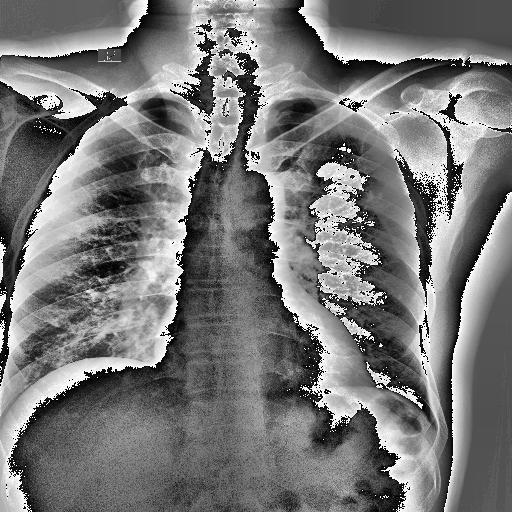13- Pulmonary fibrosis: (348, 171, 384, 223), (356, 189, 384, 221), (362, 188, 383, 210)
2- Calcification: (348, 171, 384, 223)
9- Other lesion: (56, 234, 70, 240)
